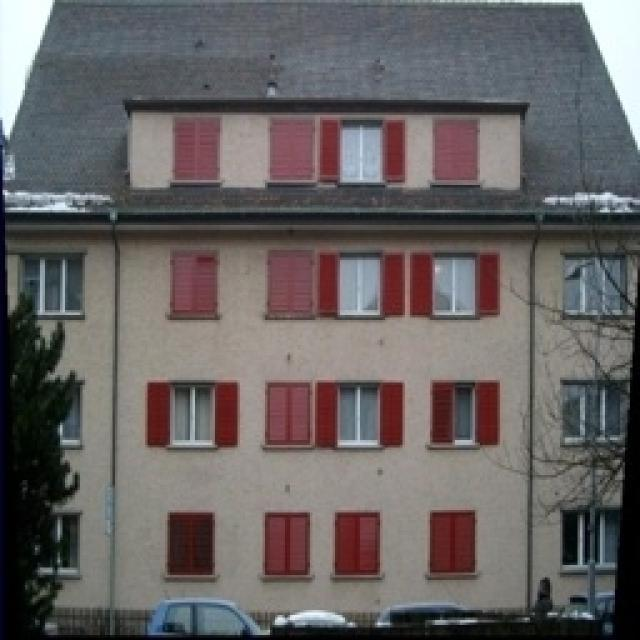Window: (565, 258, 625, 312), (172, 118, 220, 178), (170, 255, 218, 313), (564, 388, 618, 438), (430, 512, 475, 572), (170, 515, 215, 575), (335, 512, 380, 572), (270, 120, 315, 180), (435, 120, 480, 180), (265, 515, 310, 573), (265, 385, 310, 443), (340, 385, 378, 443), (270, 255, 310, 310), (435, 258, 475, 312), (42, 258, 82, 312), (340, 258, 380, 310), (172, 388, 210, 440), (342, 128, 380, 178), (560, 512, 580, 568), (452, 388, 472, 442)
